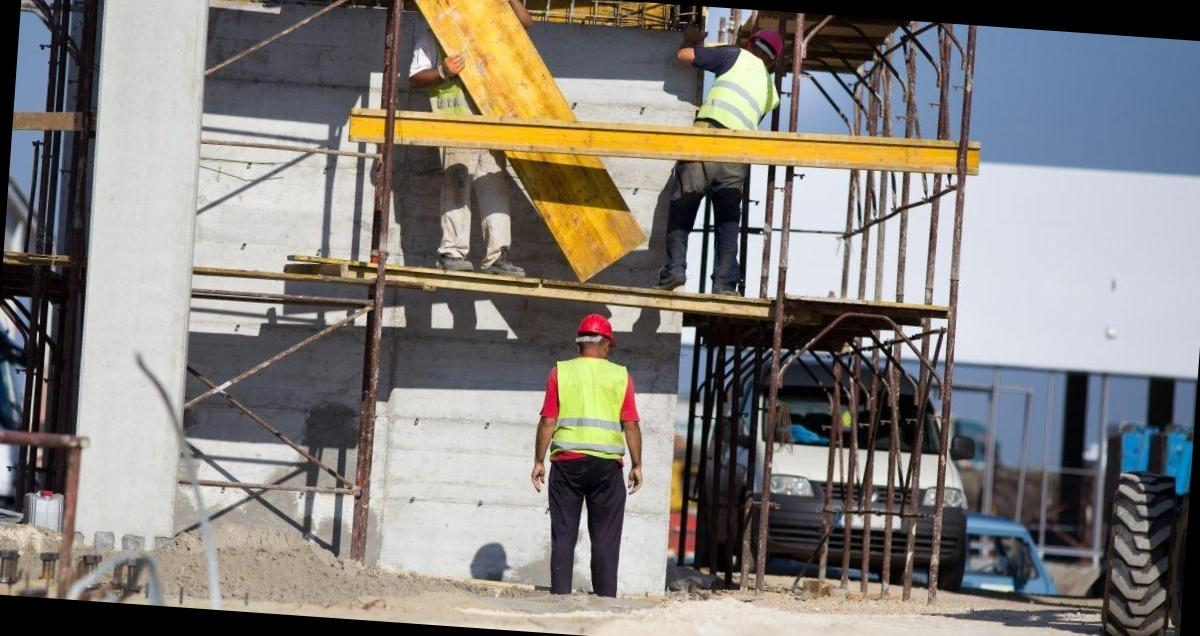Vest: (548, 347, 635, 461), (698, 42, 776, 134)
